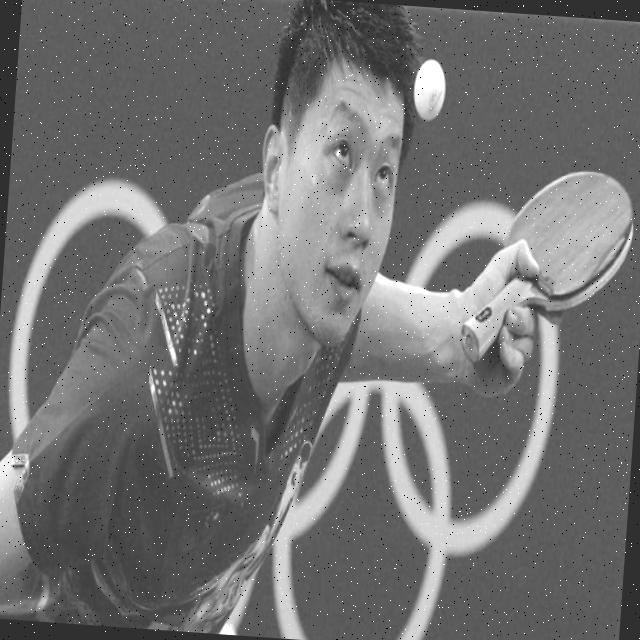ping-pong-ball: (411, 54, 451, 124)
